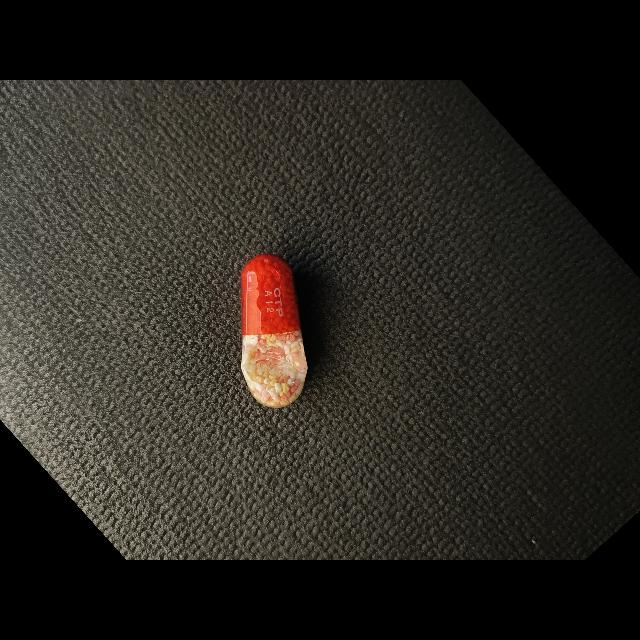Defective Capsule: (241, 254, 308, 408)
